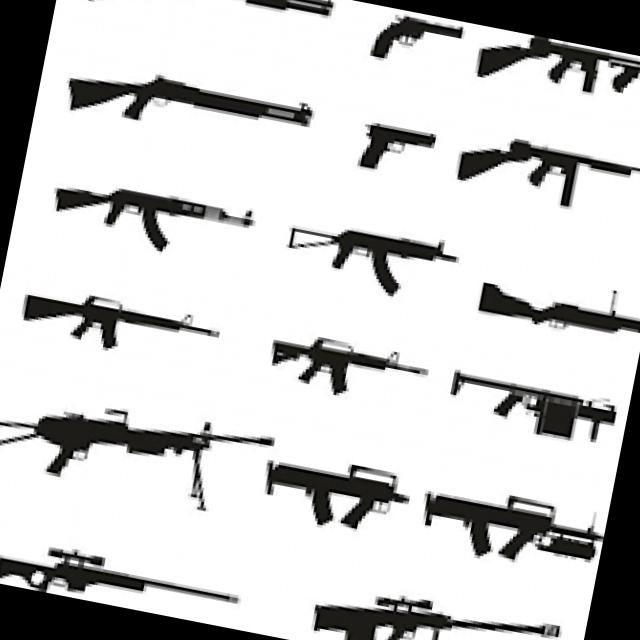handgun: (334, 89, 461, 209), (362, 7, 492, 103)
long weapon: (0, 379, 263, 530), (28, 142, 269, 306), (58, 49, 324, 170), (412, 457, 611, 601), (0, 517, 250, 630), (17, 262, 226, 384), (451, 338, 635, 476), (267, 186, 466, 312), (461, 106, 640, 244), (297, 559, 586, 640), (253, 309, 431, 432), (465, 242, 640, 367), (254, 428, 424, 552), (68, 0, 351, 58), (496, 38, 640, 120)
